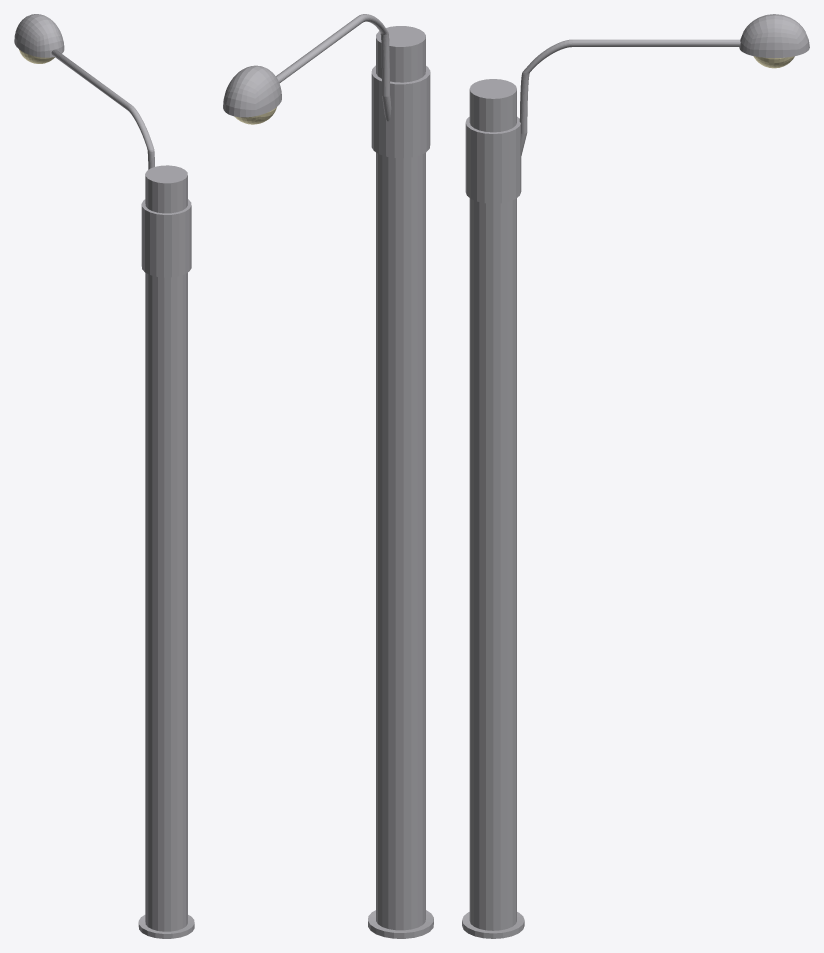
File: poste de luz.fbx
The picture shows the model from 3 angles, left to right: view 1: azimuth 30°, elevation 25°; view 2: azimuth 150°, elevation 25°; view 3: azimuth 270°, elevation 25°; orthographic projection. The views are drawn at different scales.
Visible parts, largest first — view 1: POSTE.001; view 2: POSTE.001; view 3: POSTE.001.
Part boxes in pixels (x1,y1,x2,y2): POSTE.001: (14,14,194,938); POSTE.001: (223,14,433,938); POSTE.001: (462,14,809,938).
Bounding box in the file's own units: 94.15 × 1509 × 523.
